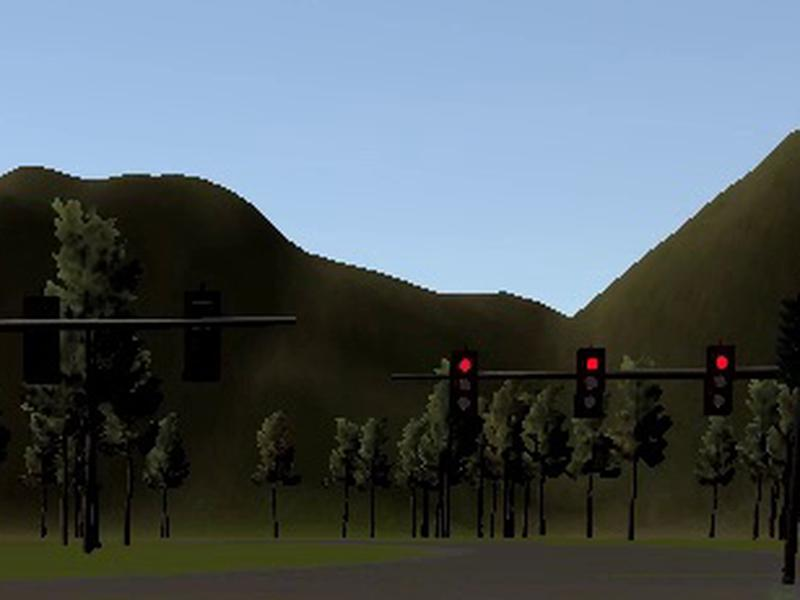Red: (703, 344, 737, 415), (575, 347, 608, 416), (451, 351, 481, 420)
